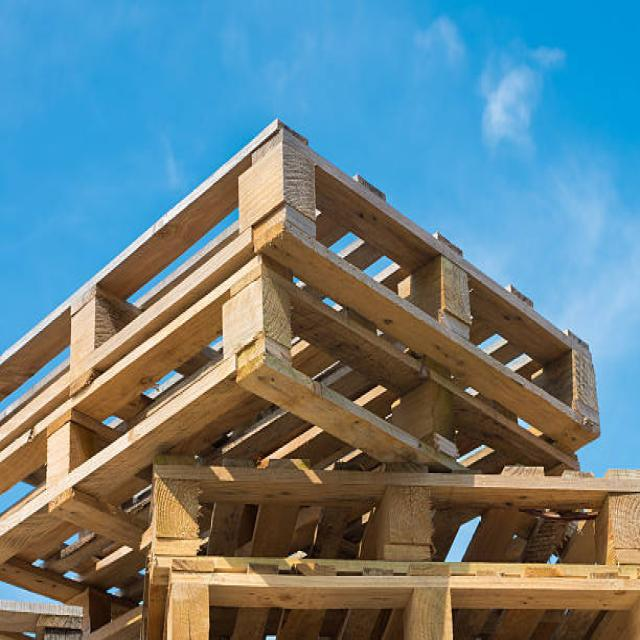Wooden-Pallets: (0, 116, 602, 443), (0, 255, 583, 541), (141, 458, 640, 582)
